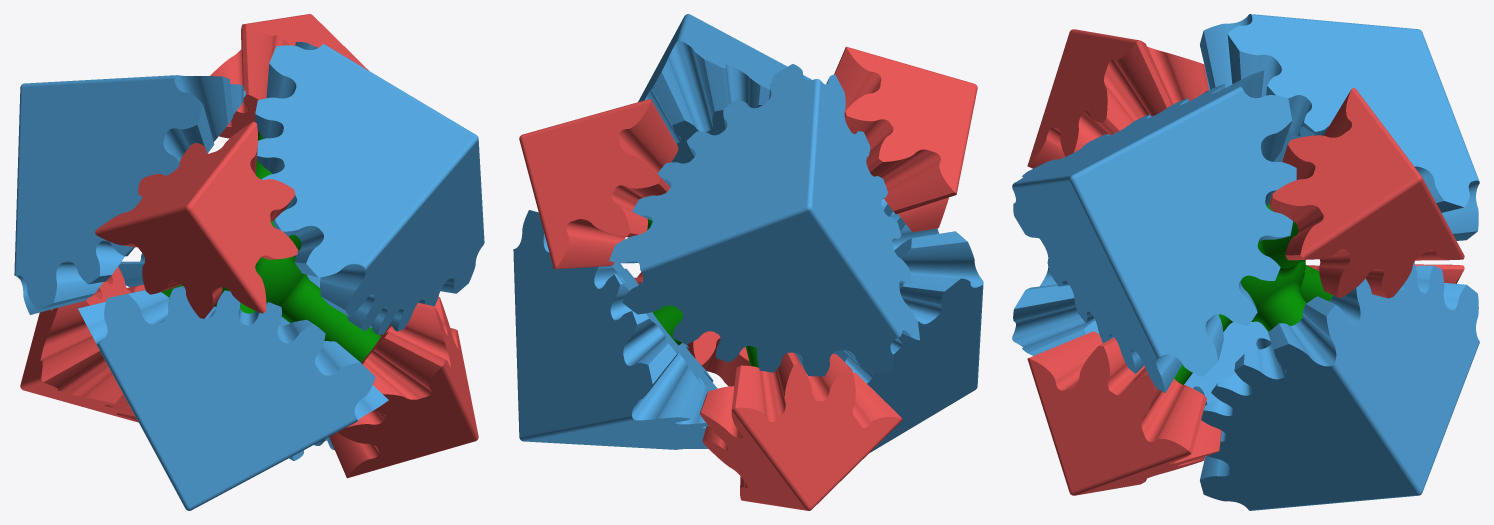
File: kup_emirhan.fbx
3 renders of one model, left to right at view 1: azimuth 30°, elevation 25°; view 2: azimuth 150°, elevation 25°; view 3: azimuth 270°, elevation 25°, orthographic. The views are drawn at different scales.
Parts seen in each view (by area): view 1: 3DGeom~76, 3DGeom~76_3, 3DGeom~76_4, 3DGeom~29_3, 3DGeom~29_2, 3DGeom~29_4, 3DGeom~29, 3DGeom~124, 3DGeom~76_2; view 2: 3DGeom~76_4, 3DGeom~76_2, 3DGeom~29_4, 3DGeom~29, 3DGeom~29_3, 3DGeom~76_3, 3DGeom~76, 3DGeom~29_2, 3DGeom~124; view 3: 3DGeom~76, 3DGeom~76_2, 3DGeom~76_4, 3DGeom~29, 3DGeom~29_2, 3DGeom~29_3, 3DGeom~76_3, 3DGeom~124.
Part boxes in pixels (<box>): 3DGeom~76: <box>255,42,484,334</box>; 3DGeom~76_3: <box>78,286,388,510</box>; 3DGeom~76_4: <box>14,75,245,314</box>; 3DGeom~29_3: <box>95,121,298,318</box>; 3DGeom~29_2: <box>329,296,478,478</box>; 3DGeom~29_4: <box>20,267,145,422</box>; 3DGeom~29: <box>210,14,368,138</box>; 3DGeom~124: <box>161,131,380,362</box>; 3DGeom~76_2: <box>118,253,371,460</box>; 3DGeom~76_4: <box>609,64,919,376</box>; 3DGeom~76_2: <box>513,210,717,449</box>; 3DGeom~29_4: <box>700,352,902,510</box>; 3DGeom~29: <box>519,98,678,269</box>; 3DGeom~29_3: <box>834,46,977,232</box>; 3DGeom~76_3: <box>794,198,983,452</box>; 3DGeom~76: <box>638,14,811,186</box>; 3DGeom~29_2: <box>634,272,750,386</box>; 3DGeom~124: <box>647,219,758,367</box>; 3DGeom~76: <box>1012,70,1296,392</box>; 3DGeom~76_2: <box>1200,262,1479,510</box>; 3DGeom~76_4: <box>1200,14,1479,240</box>; 3DGeom~29: <box>1269,88,1464,298</box>; 3DGeom~29_2: <box>1027,331,1221,495</box>; 3DGeom~29_3: <box>1027,29,1209,168</box>; 3DGeom~76_3: <box>1012,263,1271,405</box>; 3DGeom~124: <box>1174,204,1333,384</box>.
Bounding box in the file's own units: 9.75 × 9.75 × 9.75.
